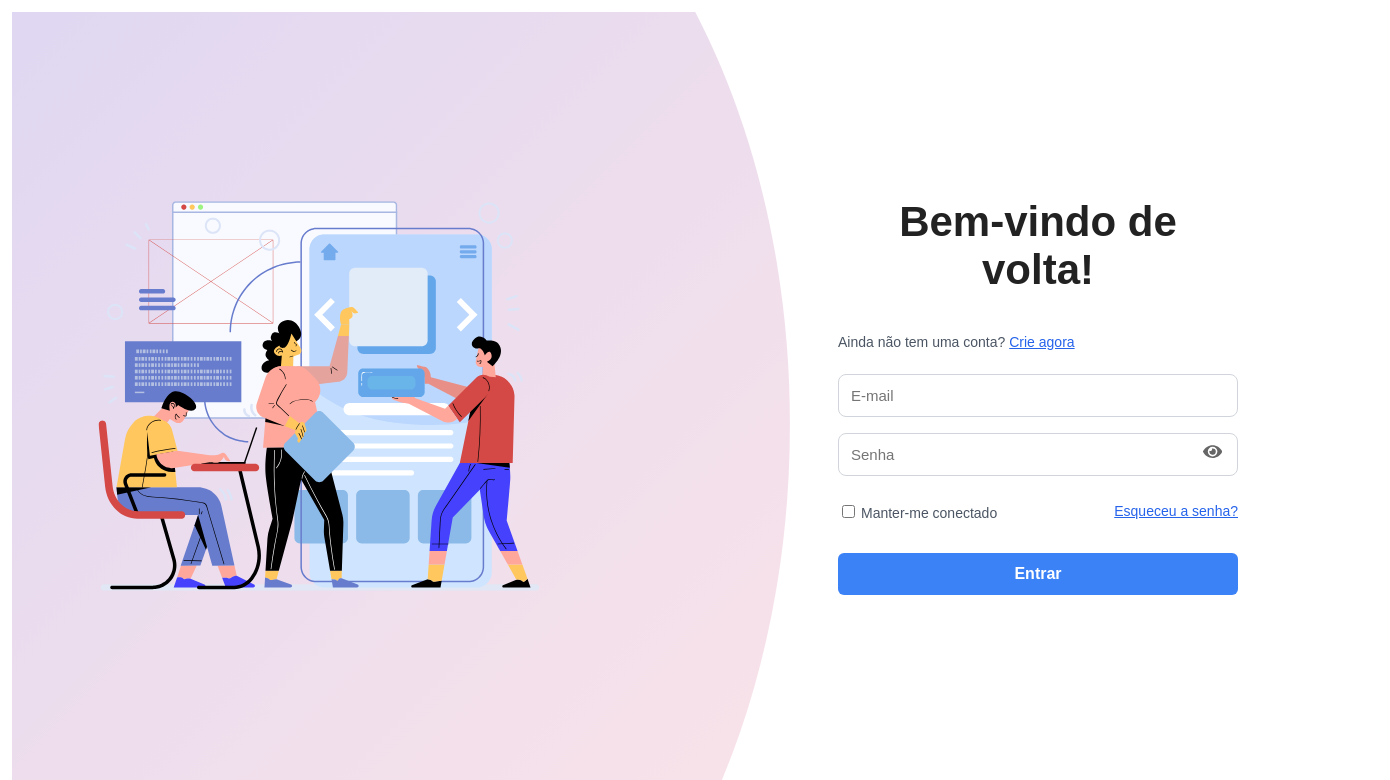
Test case: Componente Login › exibe erro se a senha for menor que 6 caracteres
Type "teste@email.com" into the field with placeholder "E-mail". click: (1038, 395)
box: top-left (838, 374), bottom-right (1238, 416)
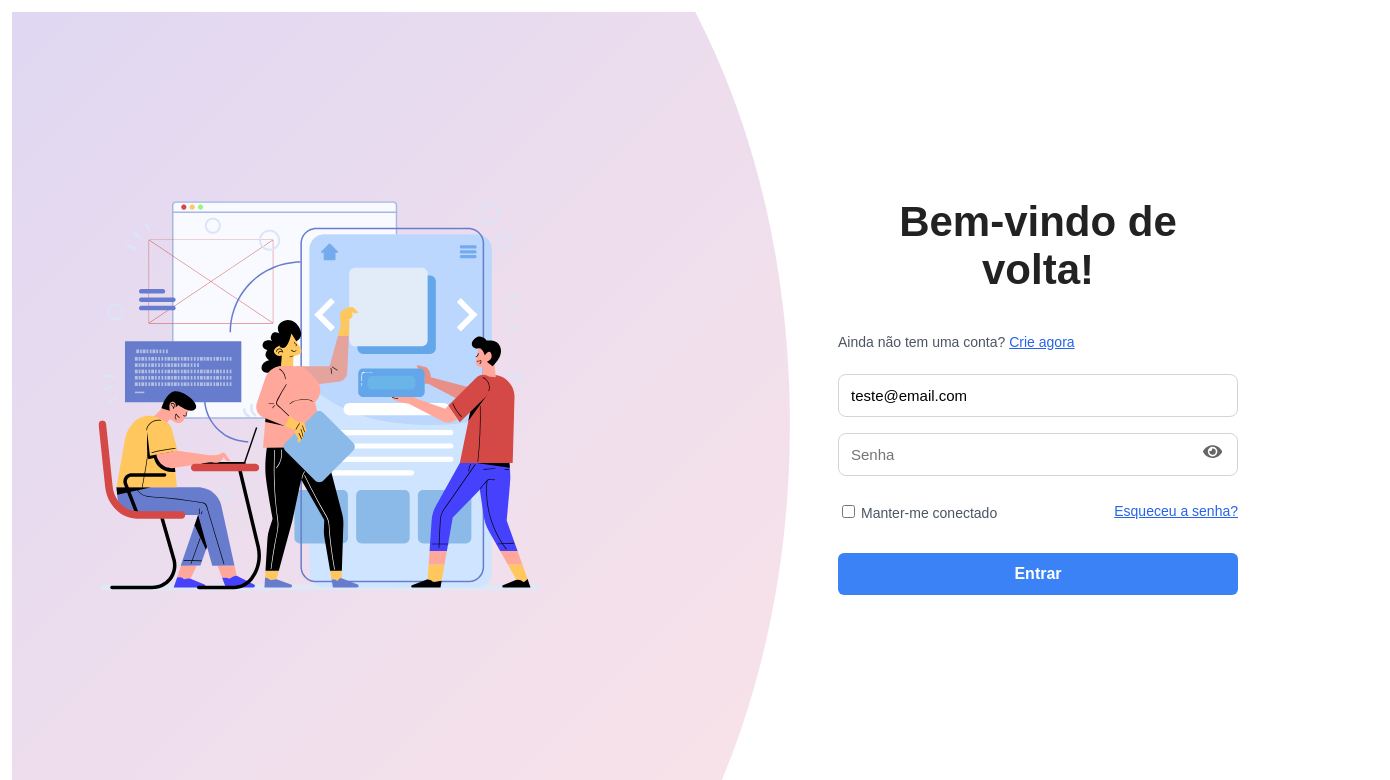
Type "123" into the password field with placeholder "Senha". click: (1038, 454)
box: top-left (838, 432), bottom-right (1238, 476)
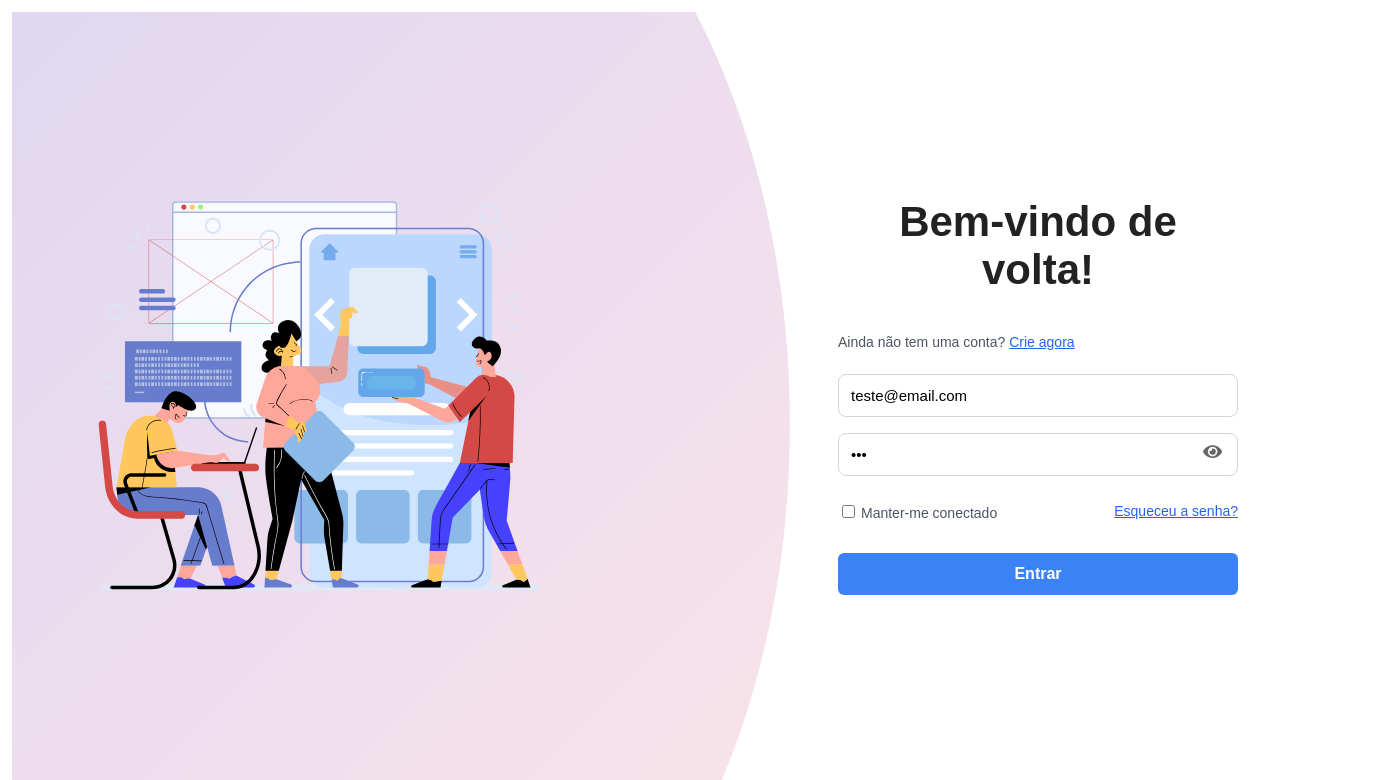
Click the button "Entrar". click: (1038, 574)
box: top-left (838, 552), bottom-right (1238, 594)
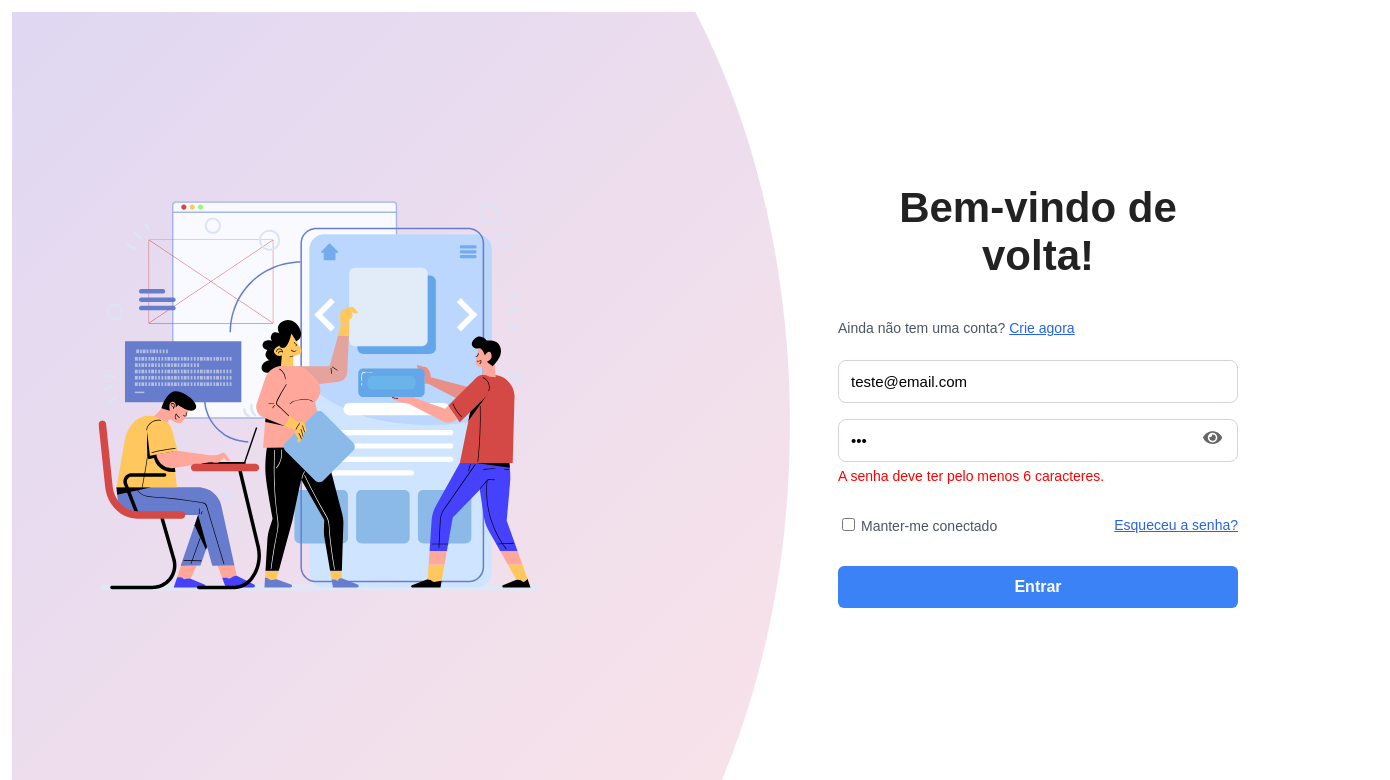
Now the text "A senha deve ter pelo menos 6 caracteres." is shown, box top-left (838, 468), bottom-right (1104, 484)
